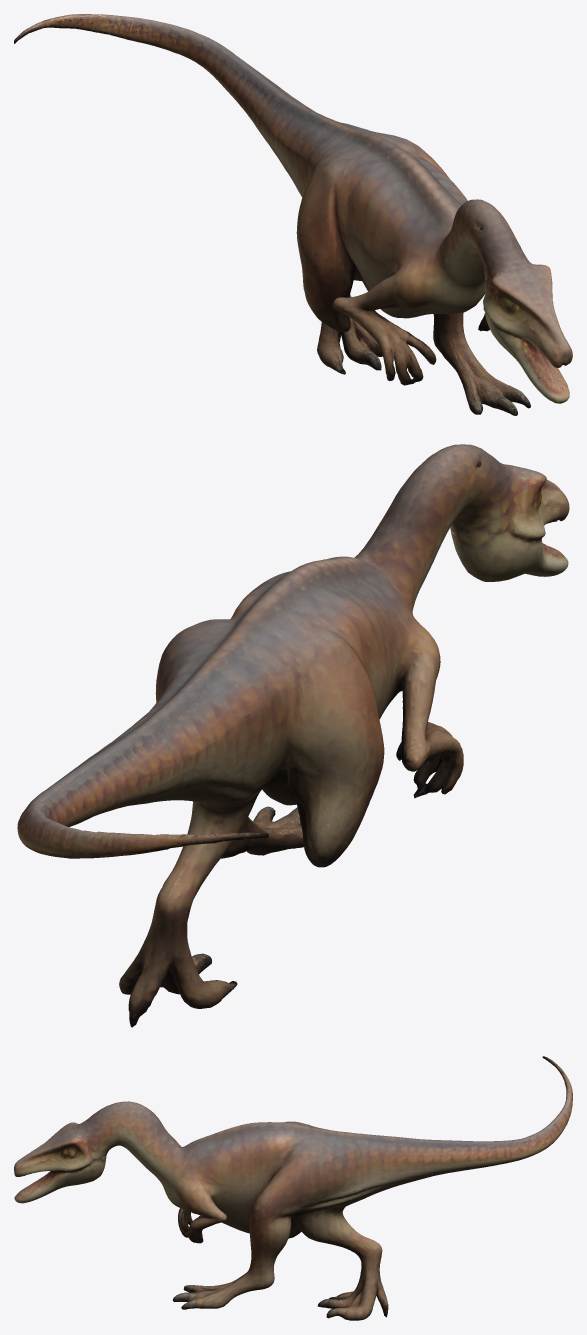
3 renders of one model, top to bottom at view 1: azimuth 30°, elevation 25°; view 2: azimuth 150°, elevation 25°; view 3: azimuth 270°, elevation 25°, orthographic. The views are drawn at different scales.
Parts seen in each view (by area): view 1: world; view 2: world; view 3: world.
Boxes of the visible parts, <box> form: world: <box>14,14,572,415</box>; world: <box>17,444,569,1027</box>; world: <box>14,1056,572,1320</box>.
Bounding box in the file's own units: 0.919 × 0.9724 × 2.45.
Materials: 1 (1 with a texture image).
